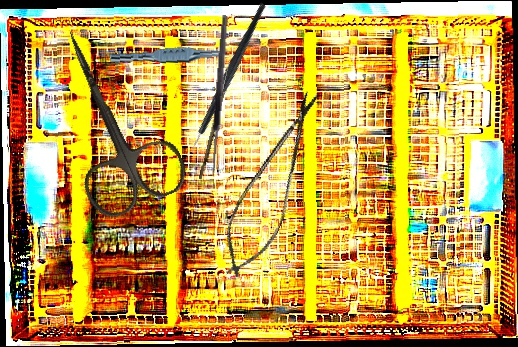Chopper: (145, 2, 312, 165)
Hook Surgical: (209, 15, 237, 178)
Iris Scissors: (25, 10, 193, 225)
Micro Scissor: (208, 80, 335, 289)
Surgical Spoon: (198, 61, 232, 181)
Tissue Forceps: (109, 42, 234, 70)
